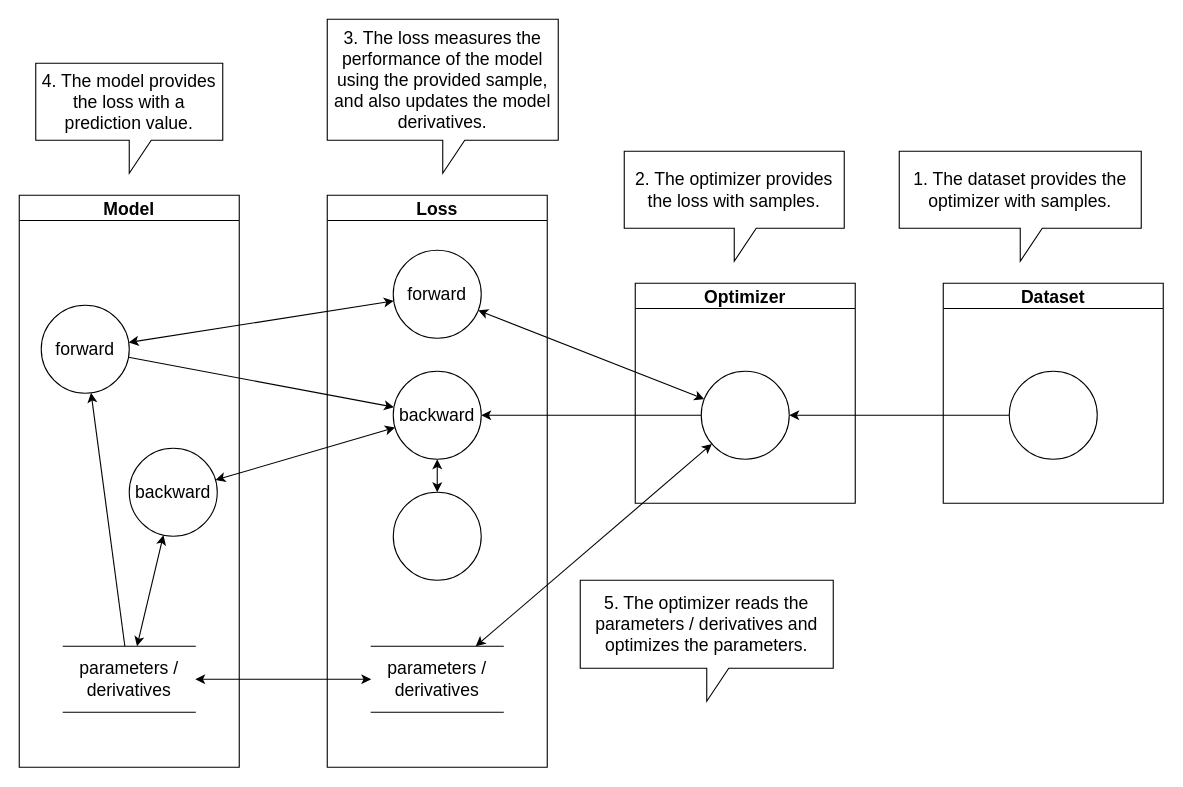
Some shapes in this 1183 by 787 pixel diagram are drawn without their labels. Here are the shapes that lost their labels. From the top down, the centre of each, then its label:
At point 744,414: "solver".
At point 1052,414: "generate sample".
At point 436,535: "dy".
